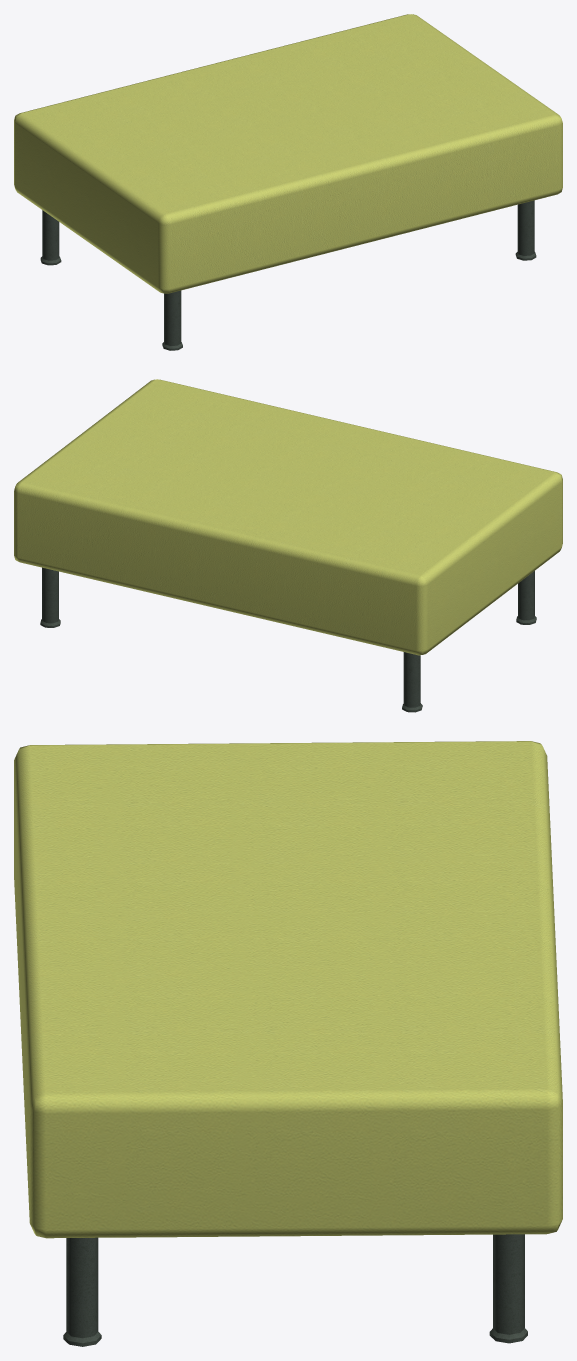
Rendered from LGSeochoB1BenchSq.fbx.
3 views of the same model, one above another, from view 1: azimuth 30°, elevation 25°; view 2: azimuth 150°, elevation 25°; view 3: azimuth 270°, elevation 25° (orthographic). The views are drawn at different scales.
Parts seen in each view (by area): view 1: LGSeochoB1LeatherSq, LGSeochoB1Metal; view 2: LGSeochoB1LeatherSq, LGSeochoB1Metal; view 3: LGSeochoB1LeatherSq, LGSeochoB1Metal.
Part boxes in pixels (<box>): LGSeochoB1LeatherSq: <box>14,14,562,293</box>; LGSeochoB1Metal: <box>40,200,536,350</box>; LGSeochoB1LeatherSq: <box>14,379,562,655</box>; LGSeochoB1Metal: <box>40,567,536,712</box>; LGSeochoB1LeatherSq: <box>14,741,562,1238</box>; LGSeochoB1Metal: <box>63,1234,527,1346</box>.
Size of the model in its own units: 94.24 by 31.6 by 59.97.
